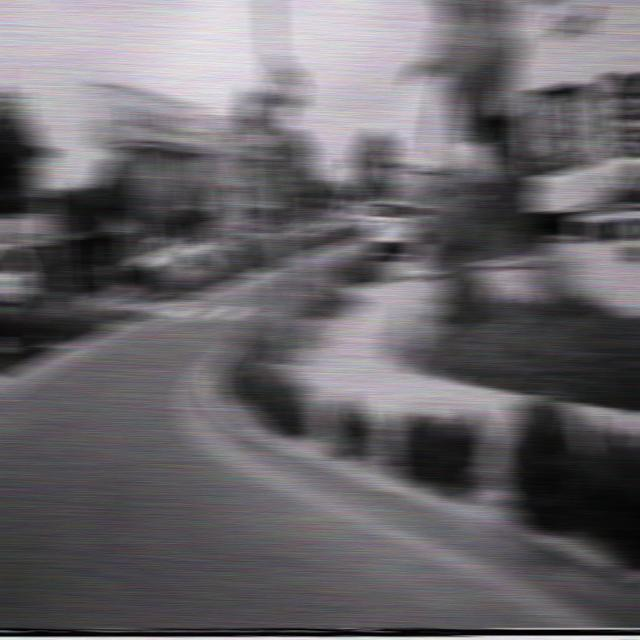pedestrianCrossing: (332, 140, 372, 201)
